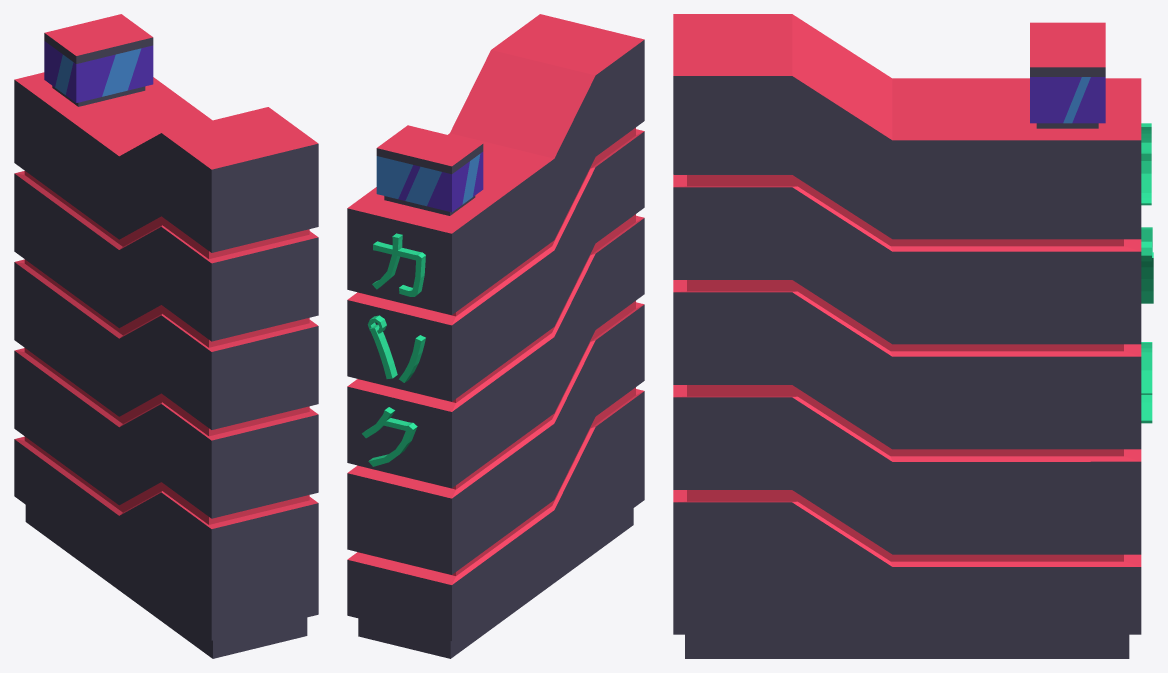
Rendered from CbpBuild A.fbx.
The picture shows the model from 3 angles, left to right: view 1: azimuth 30°, elevation 25°; view 2: azimuth 150°, elevation 25°; view 3: azimuth 270°, elevation 25°; orthographic projection. The views are drawn at different scales.
Visible parts, largest first — view 1: CbpBuild A; view 2: CbpBuild A; view 3: CbpBuild A.
Boxes of the visible parts, x1,y1,x2,y2 form: CbpBuild A: (14, 14, 318, 658); CbpBuild A: (347, 14, 644, 658); CbpBuild A: (673, 14, 1153, 658).
Bounding box in the file's own units: 2.74 × 12.08 × 8.97.
